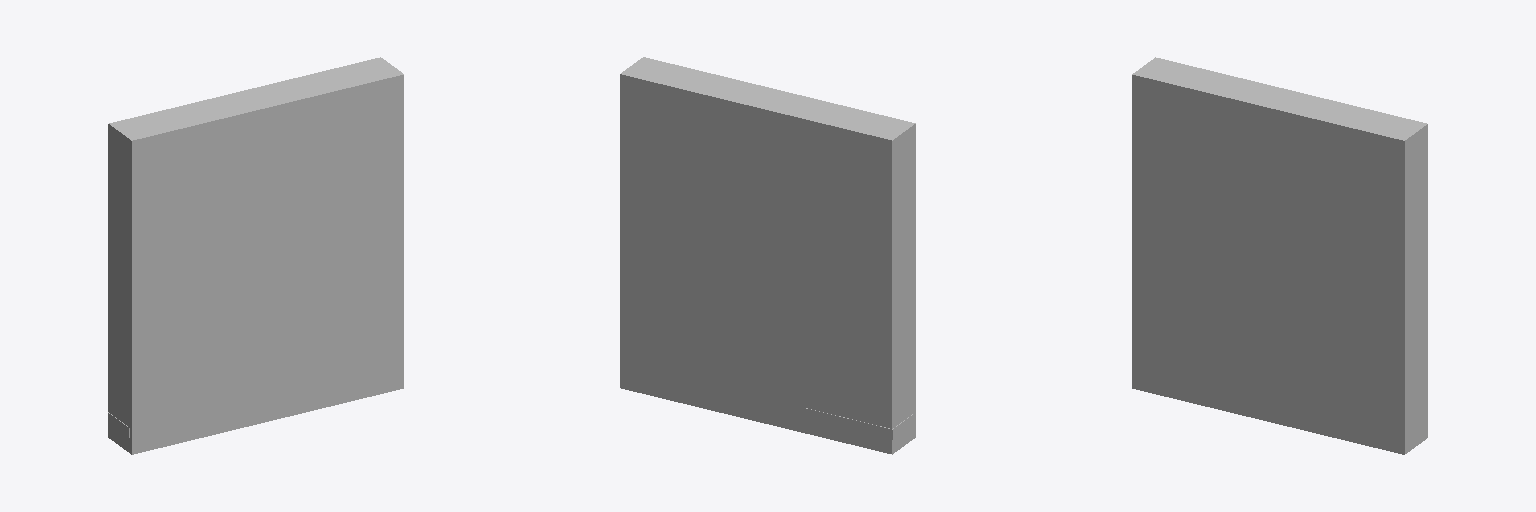
The model's file is stair wall2.obj.
3 renders of one model, left to right at view 1: azimuth 30°, elevation 25°; view 2: azimuth 150°, elevation 25°; view 3: azimuth 330°, elevation 25°, orthographic.
Visible parts, largest first — view 1: Part3; view 2: Part3, Part2; view 3: Part3.
Boxes of the visible parts, x1=… form: Part3: x1=108, y1=57, x2=403, y2=454; Part3: x1=620, y1=57, x2=915, y2=454; Part2: x1=804, y1=408, x2=892, y2=439; Part3: x1=1132, y1=57, x2=1427, y2=454.
Bounding box in the file's own units: 18.89 × 20.76 × 2.86.